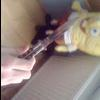melee: (0, 16, 79, 86)
